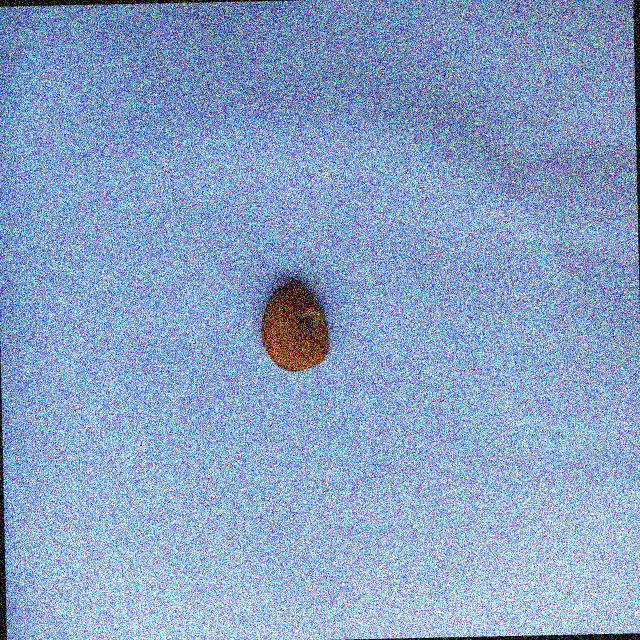grade3: (258, 276, 335, 377)
